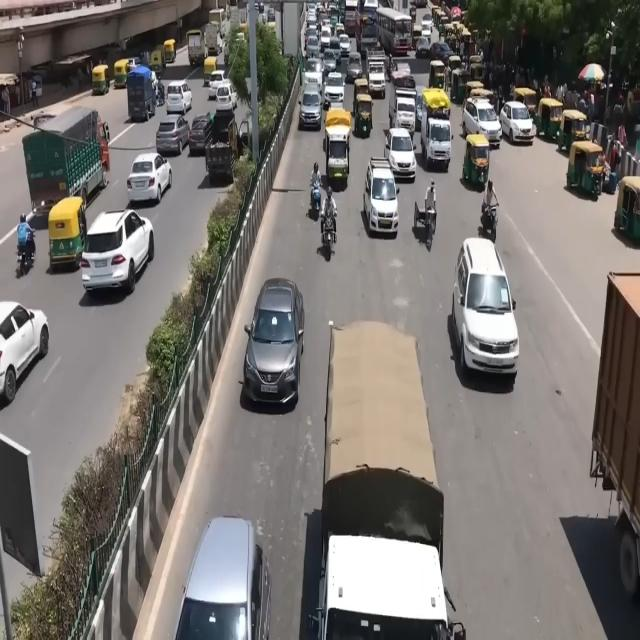auto: (48, 197, 88, 270), (566, 139, 606, 200), (324, 111, 352, 182), (614, 174, 640, 243), (420, 87, 451, 141), (462, 134, 491, 188), (557, 108, 588, 154), (536, 97, 564, 143), (512, 86, 538, 122), (353, 91, 373, 137), (462, 80, 487, 114), (450, 66, 471, 104), (91, 65, 110, 96), (428, 59, 446, 90), (114, 59, 132, 88), (203, 55, 218, 86), (150, 44, 167, 71), (469, 56, 484, 85), (443, 22, 458, 46), (432, 7, 446, 30), (164, 39, 176, 64)
bike-auto: (416, 190, 440, 258), (16, 212, 35, 269), (321, 186, 337, 244), (481, 197, 498, 242), (311, 160, 323, 208), (32, 78, 39, 108)
